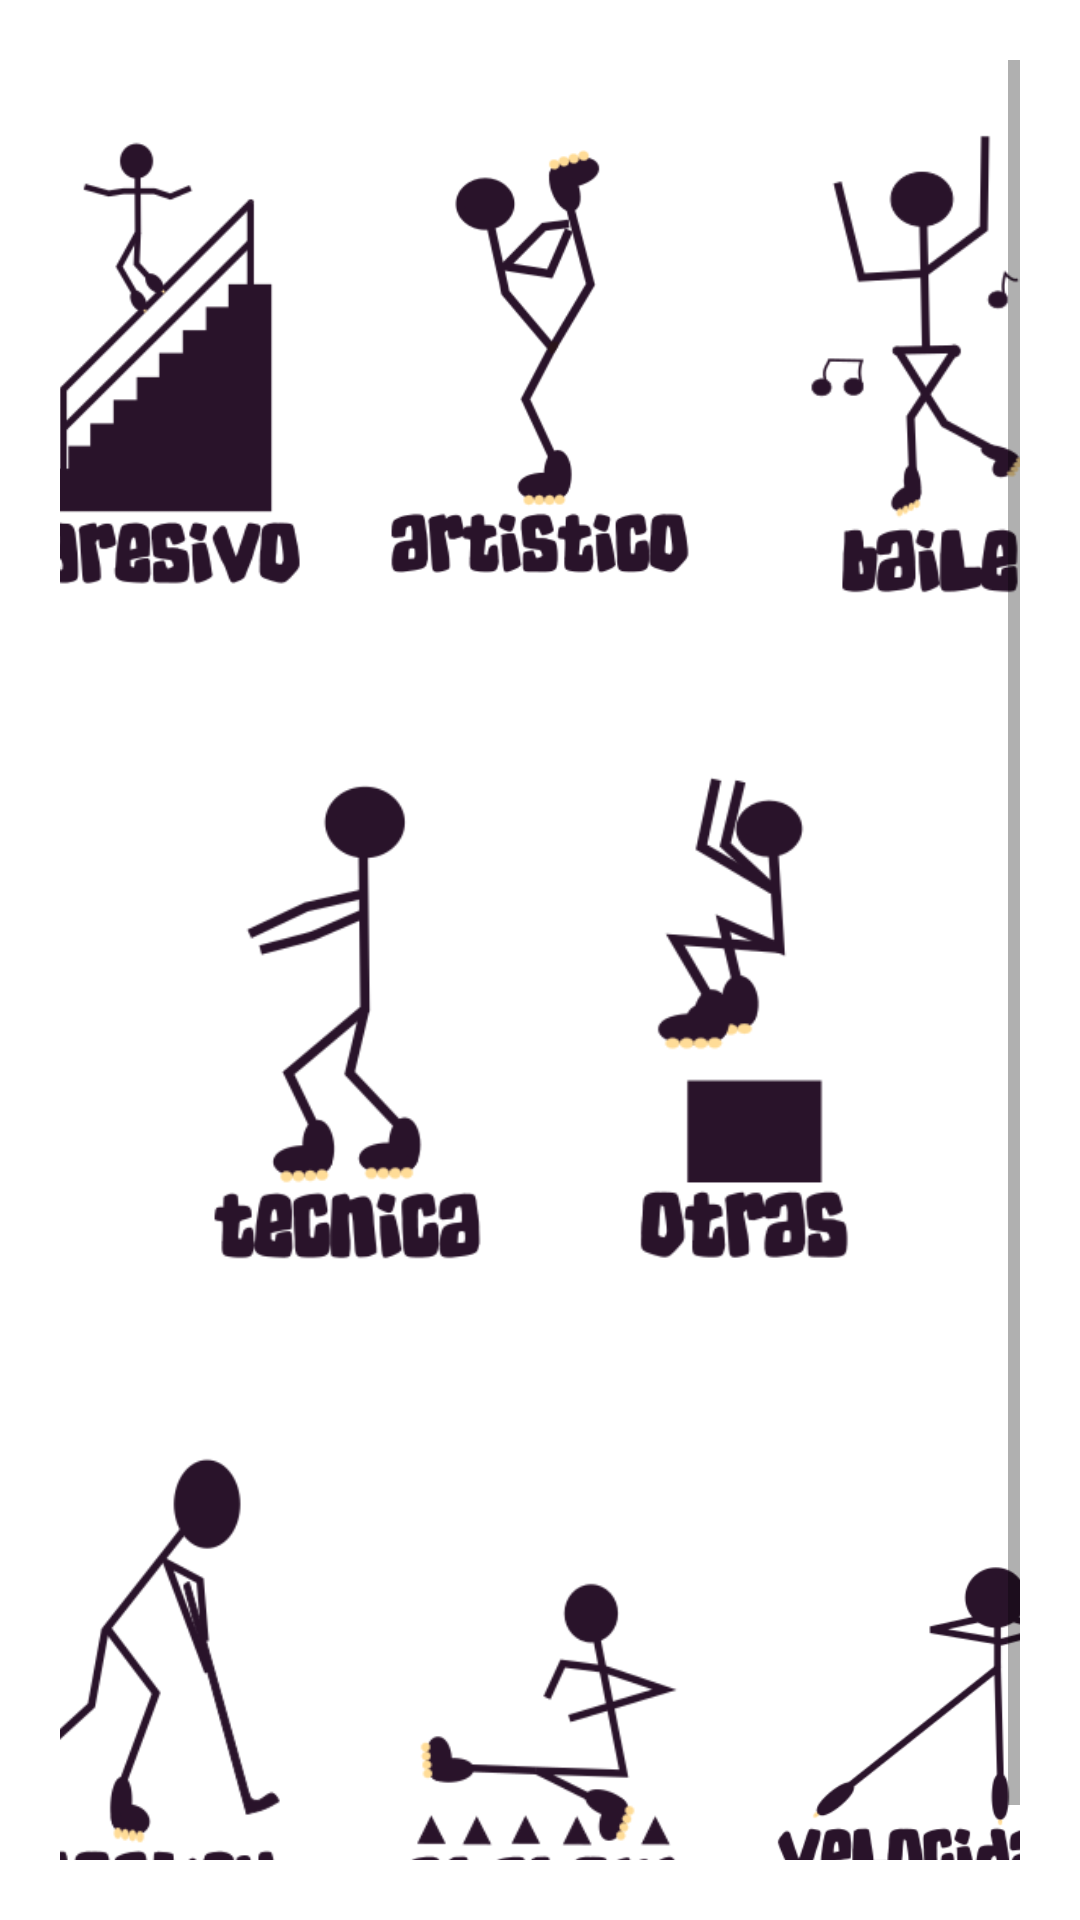

Named icons in this screenshot (1080×1920) and their bounding boxes, bbox(x1, y1, x2, y2):
slalom: bbox(412, 1583, 676, 1860)
